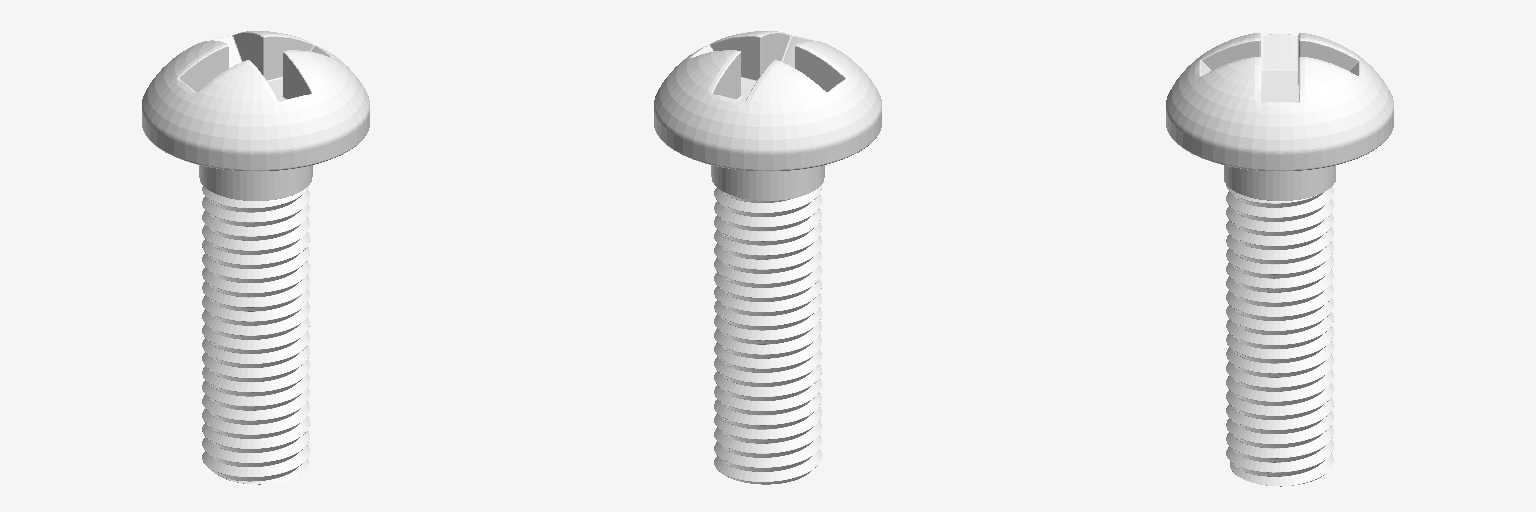
The model's file is screw.obj.
3 views of the same model, side by side, from view 1: azimuth 30°, elevation 25°; view 2: azimuth 150°, elevation 25°; view 3: azimuth 270°, elevation 25° (orthographic).
Visible parts, largest first — view 1: Machine_Screw_-_Oval_01; view 2: Machine_Screw_-_Oval_01; view 3: Machine_Screw_-_Oval_01.
Boxes of the visible parts, x1,y1,x2,y2 form: Machine_Screw_-_Oval_01: [142, 31, 369, 484]; Machine_Screw_-_Oval_01: [654, 31, 881, 484]; Machine_Screw_-_Oval_01: [1166, 33, 1393, 486].
Size of the model in its own units: 2.92 by 5.84 by 2.91.